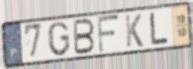7: (23, 22, 44, 62)
B: (73, 18, 96, 56)
F: (96, 13, 121, 55)
G: (46, 20, 72, 57)
K: (124, 13, 145, 49)
L: (149, 11, 170, 46)
